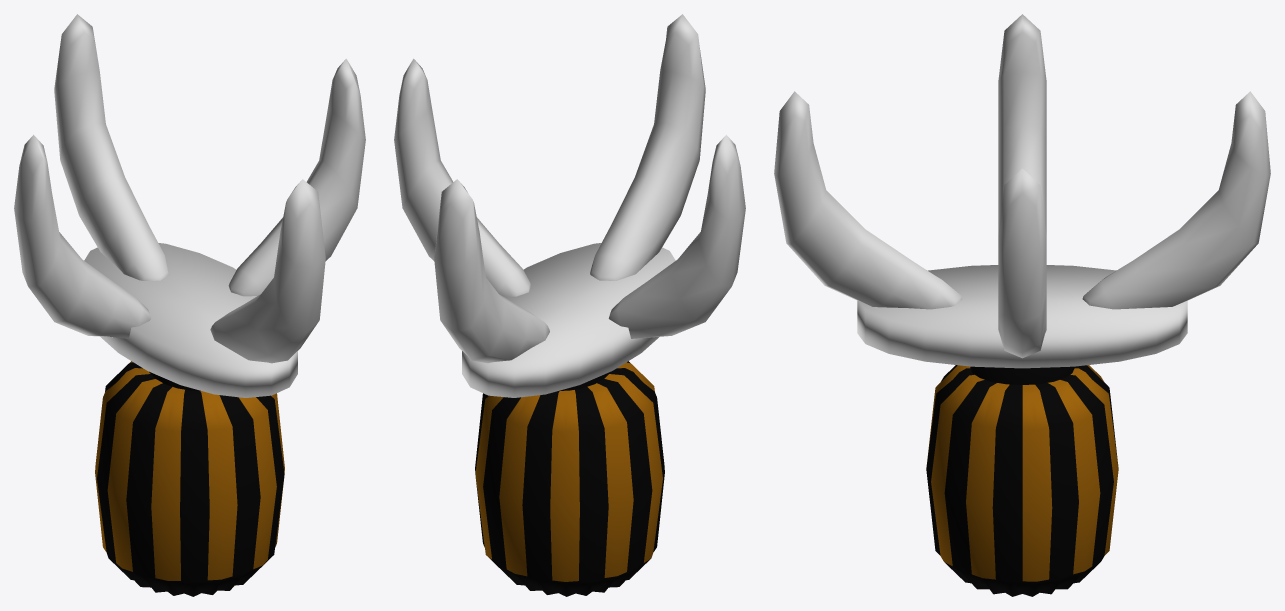
File: Weapon_TightsGrapnel.fbx
The picture shows the model from 3 angles, left to right: view 1: azimuth 30°, elevation 25°; view 2: azimuth 150°, elevation 25°; view 3: azimuth 270°, elevation 25°; orthographic projection.
Parts seen in each view (by area): view 1: pCylinder4; view 2: pCylinder4; view 3: pCylinder4.
Boxes of the visible parts, x1,y1,x2,y2 form: pCylinder4: (14,14,365,596); pCylinder4: (394,14,745,596); pCylinder4: (774,14,1270,596).
Bounding box in the file's own units: 58.79 × 78.1 × 73.39.
